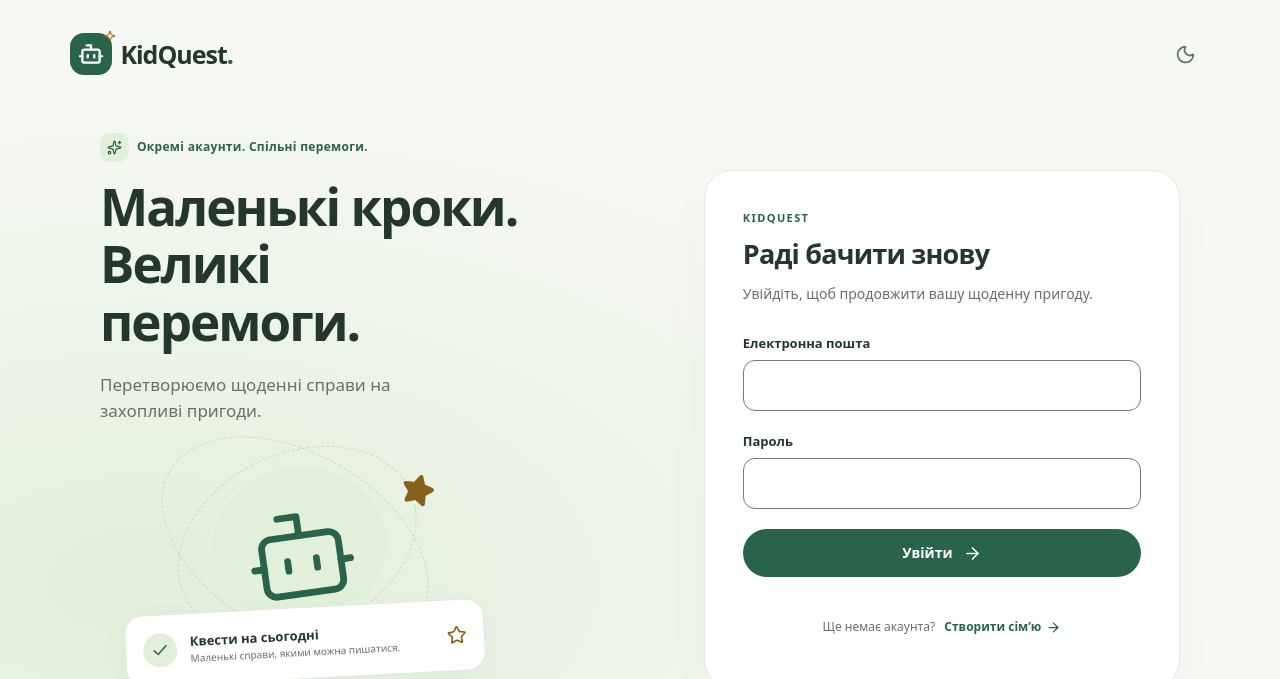
Test: Ukrainian authentication flow › establishes the session, sends authenticated API requests and redirects to the parent dashboard
The width and height of the screenshot is (1280, 679).
Type "olena@example.test" into the field labelled "Електронна пошта" at (942, 386), box [743, 360, 1141, 411]
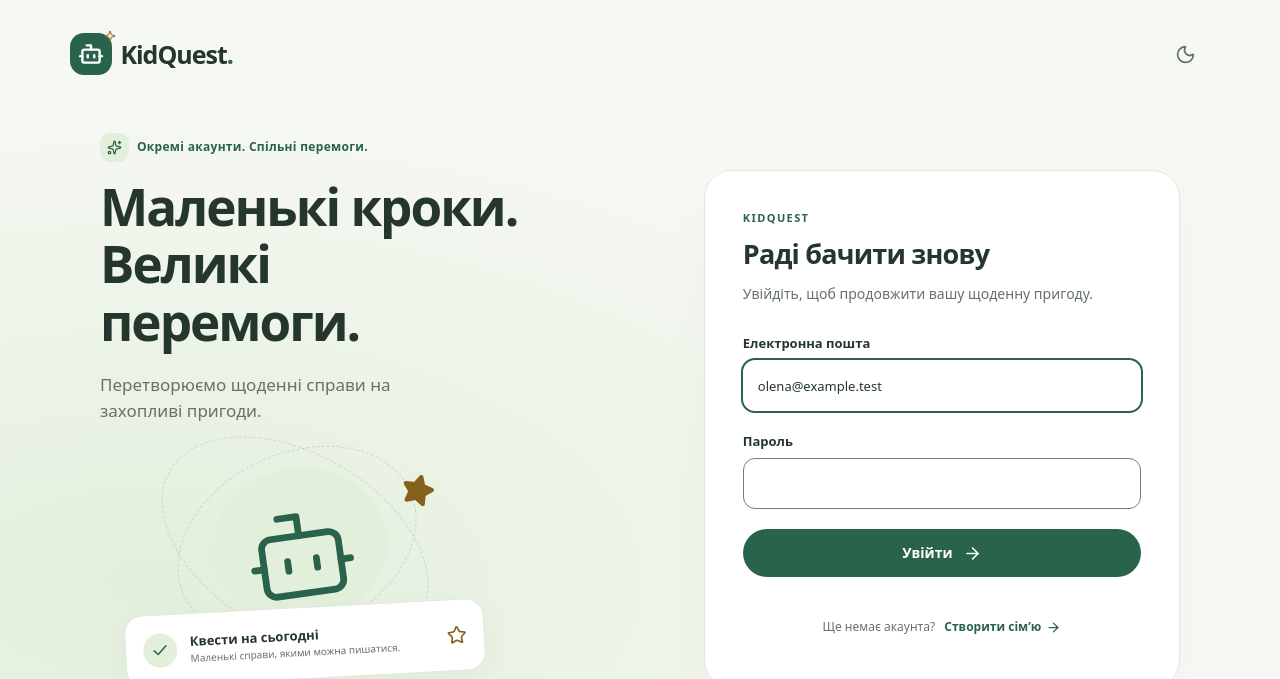
Type "test-password-only" into the password field labelled "Пароль" at (942, 484), box [743, 458, 1141, 509]
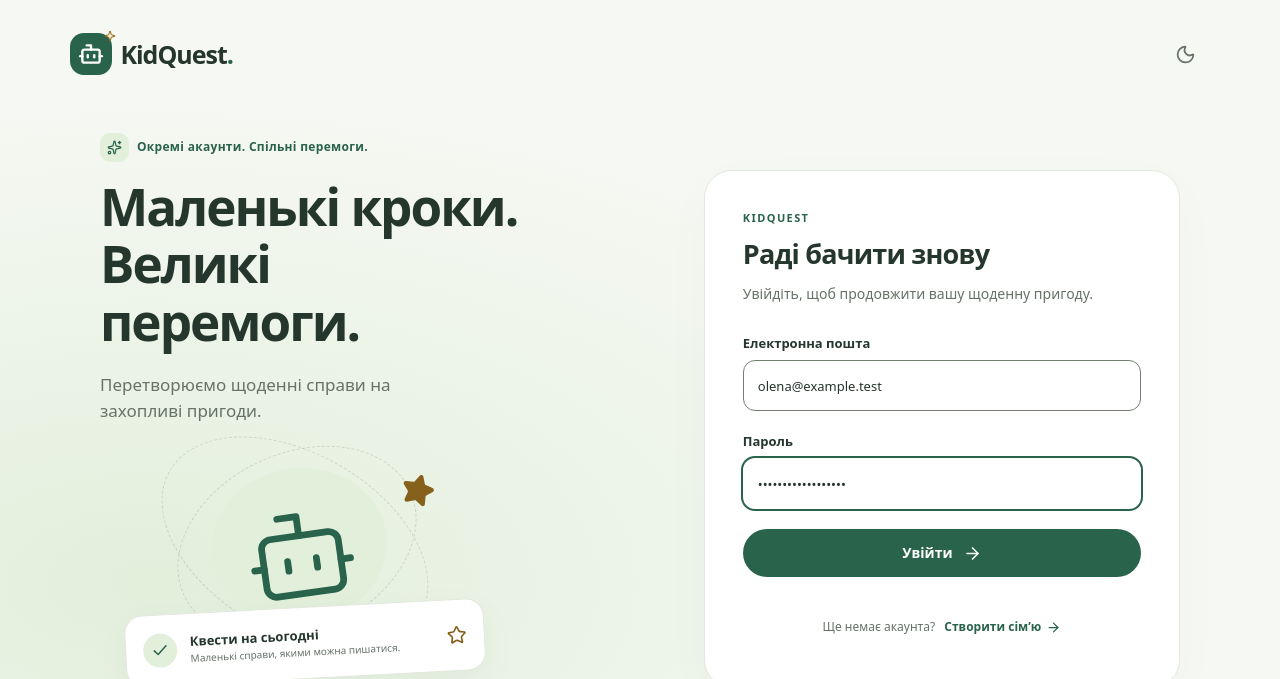
Click the button "Увійти" at (942, 553), box [743, 529, 1141, 577]
(page scrolled)
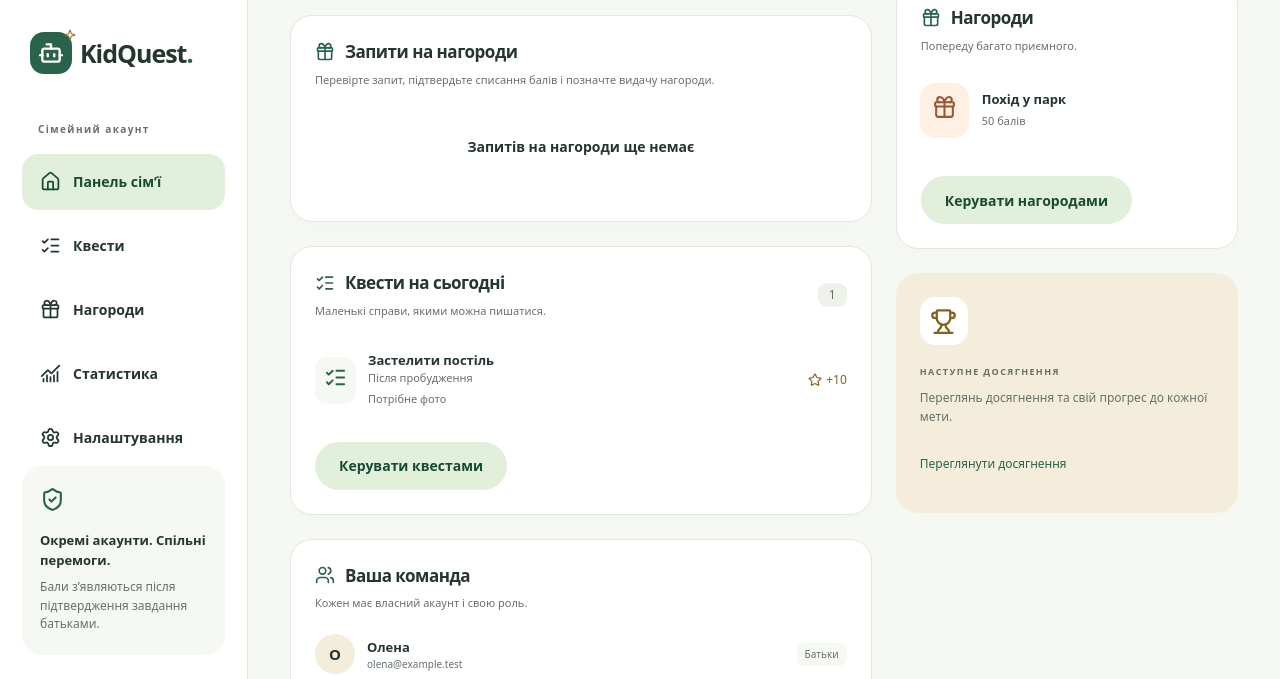
Result: the heading "Застелити постіль" is shown at [368, 351, 494, 369]
